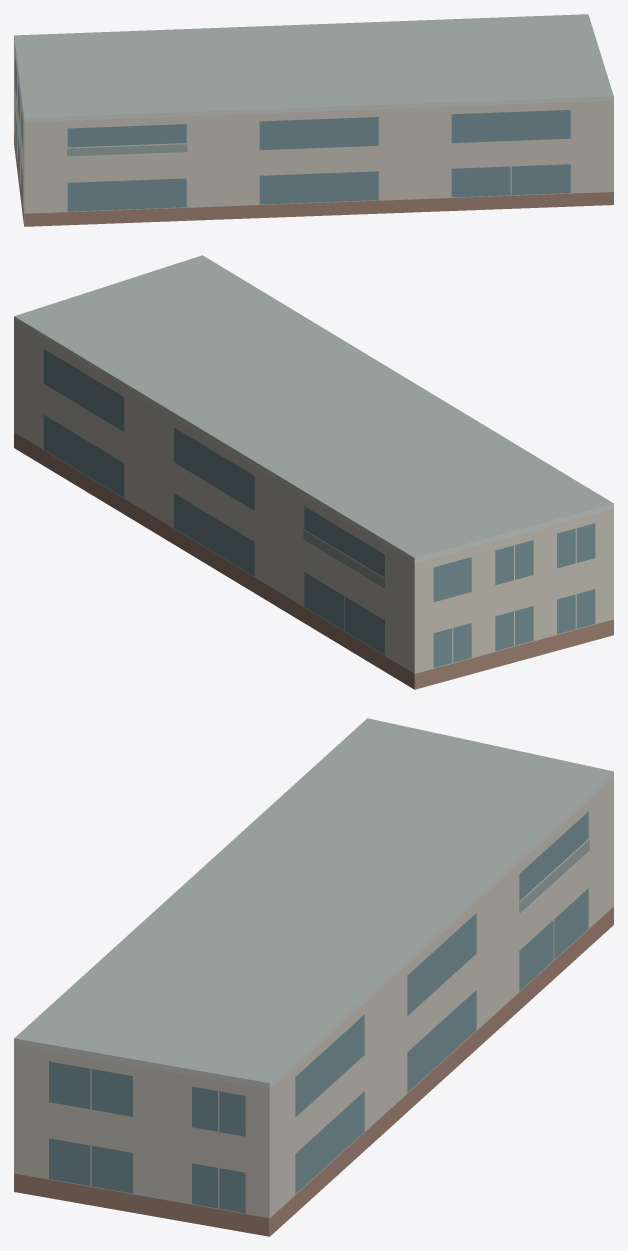
File: survey-upis-32518644.glb
3 renders of one model, top to bottom at view 1: azimuth 30°, elevation 25°; view 2: azimuth 150°, elevation 25°; view 3: azimuth 270°, elevation 25°, orthographic. The views are drawn at different scales.
Parts seen in each view (by area): view 1: survey-upis-32518644.tmp; view 2: survey-upis-32518644.tmp; view 3: survey-upis-32518644.tmp.
Boxes of the visible parts, x1=… form: survey-upis-32518644.tmp: x1=14, y1=14, x2=613, y2=226; survey-upis-32518644.tmp: x1=14, y1=255, x2=613, y2=689; survey-upis-32518644.tmp: x1=14, y1=718, x2=613, y2=1236.
Size of the model in its own units: 31.11 by 6.1 by 21.61.
